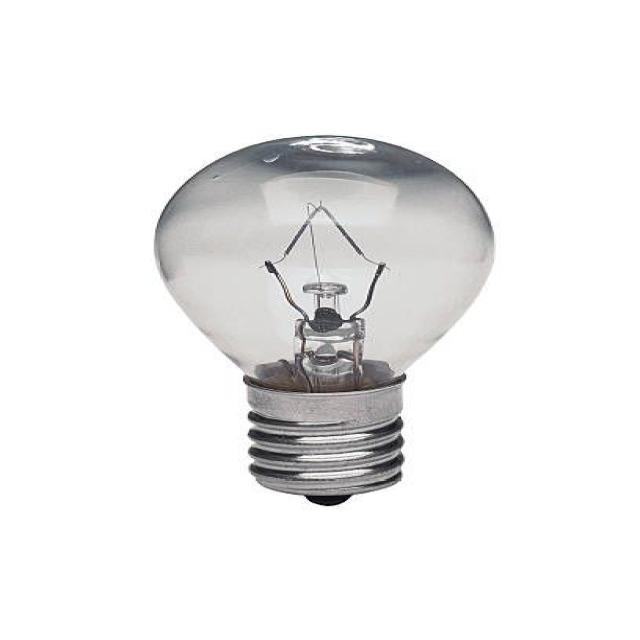electronic: (152, 133, 496, 506)
